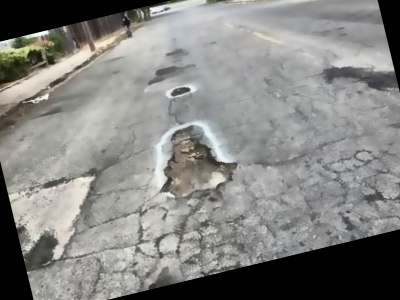pothole: (147, 117, 239, 203), (167, 82, 192, 98)
